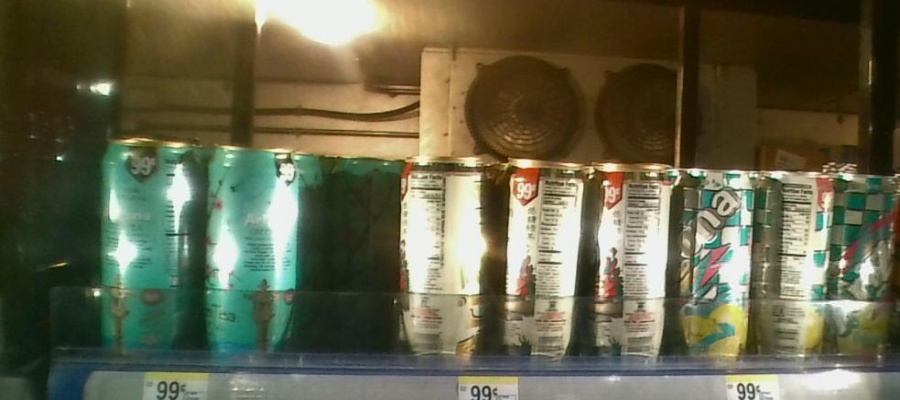bottle: (93, 127, 200, 370), (202, 133, 299, 370), (399, 146, 489, 366), (496, 150, 586, 369), (592, 152, 676, 369), (676, 143, 754, 370), (757, 153, 833, 363), (324, 143, 396, 352), (840, 158, 899, 373)
